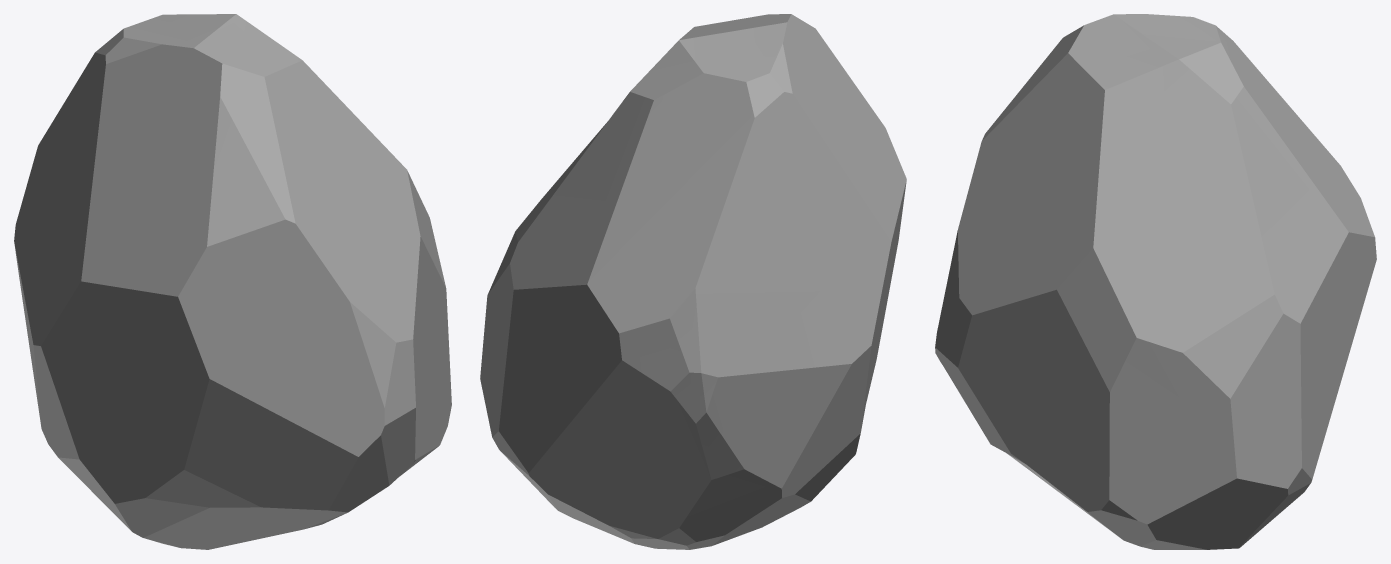
Rendered from HardRock_05.fbx.
3 renders of one model, left to right at view 1: azimuth 30°, elevation 25°; view 2: azimuth 150°, elevation 25°; view 3: azimuth 270°, elevation 25°, orthographic. The views are drawn at different scales.
Visible parts, largest first — view 1: HardRock_05; view 2: HardRock_05; view 3: HardRock_05.
Boxes of the visible parts, bbox=[...] form: HardRock_05: bbox=[14, 14, 451, 549]; HardRock_05: bbox=[480, 14, 906, 549]; HardRock_05: bbox=[935, 14, 1376, 549].
Size of the model in its own units: 71.13 by 95.46 by 80.05.
